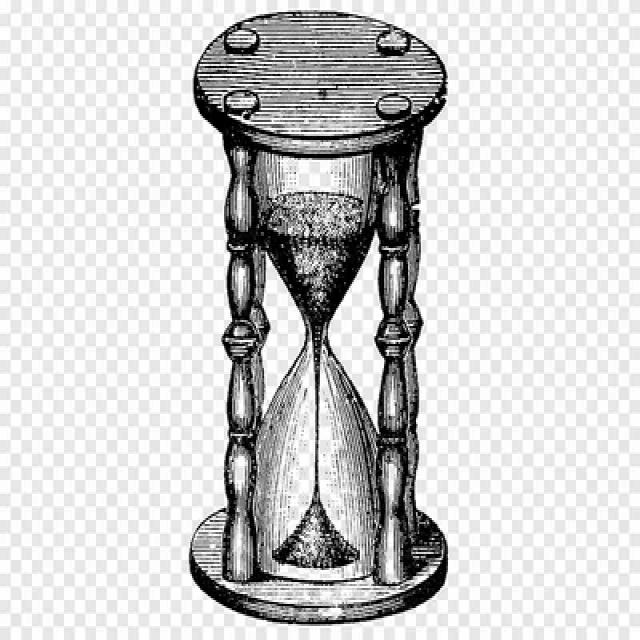clock: (189, 0, 453, 637)
